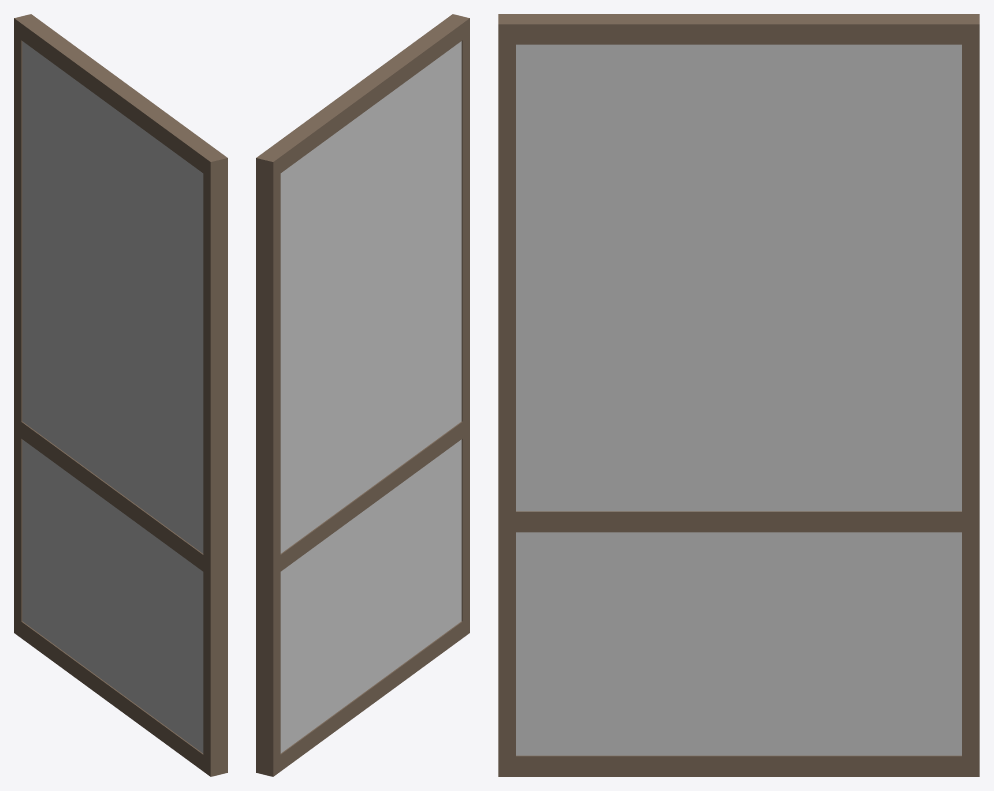
Rendered from window.FBX.
The picture shows the model from 3 angles, left to right: view 1: azimuth 30°, elevation 25°; view 2: azimuth 150°, elevation 25°; view 3: azimuth 270°, elevation 25°; orthographic projection. The views are drawn at different scales.
Parts seen in each view (by area): view 1: window_U, window_F, window_B; view 2: window_U, window_F, window_B; view 3: window_U, window_B, window_F.
Boxes of the visible parts, left/top/right/bottom form: window_U: left=22, top=41, right=203, bottom=553; window_F: left=14, top=14, right=227, bottom=776; window_B: left=22, top=439, right=203, bottom=753; window_U: left=280, top=41, right=461, bottom=553; window_F: left=256, top=14, right=469, bottom=776; window_B: left=280, top=439, right=461, bottom=753; window_U: left=516, top=44, right=961, bottom=511; window_B: left=516, top=532, right=961, bottom=755; window_F: left=498, top=14, right=979, bottom=776.
Bounding box in the file's own units: 0.5906 × 20.24 × 11.73.
